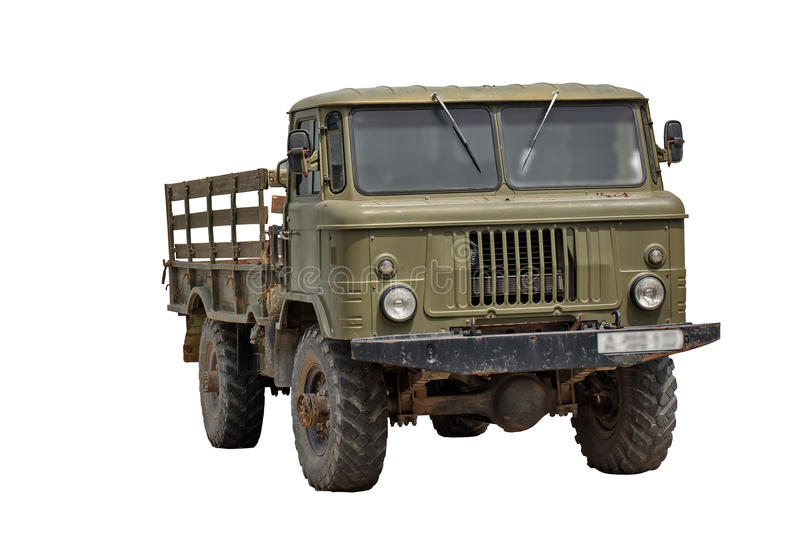camion: (167, 86, 722, 482)
